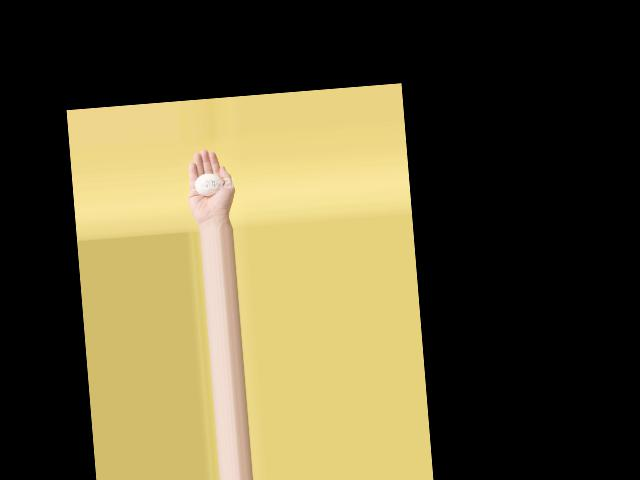egg: (193, 172, 224, 196)
